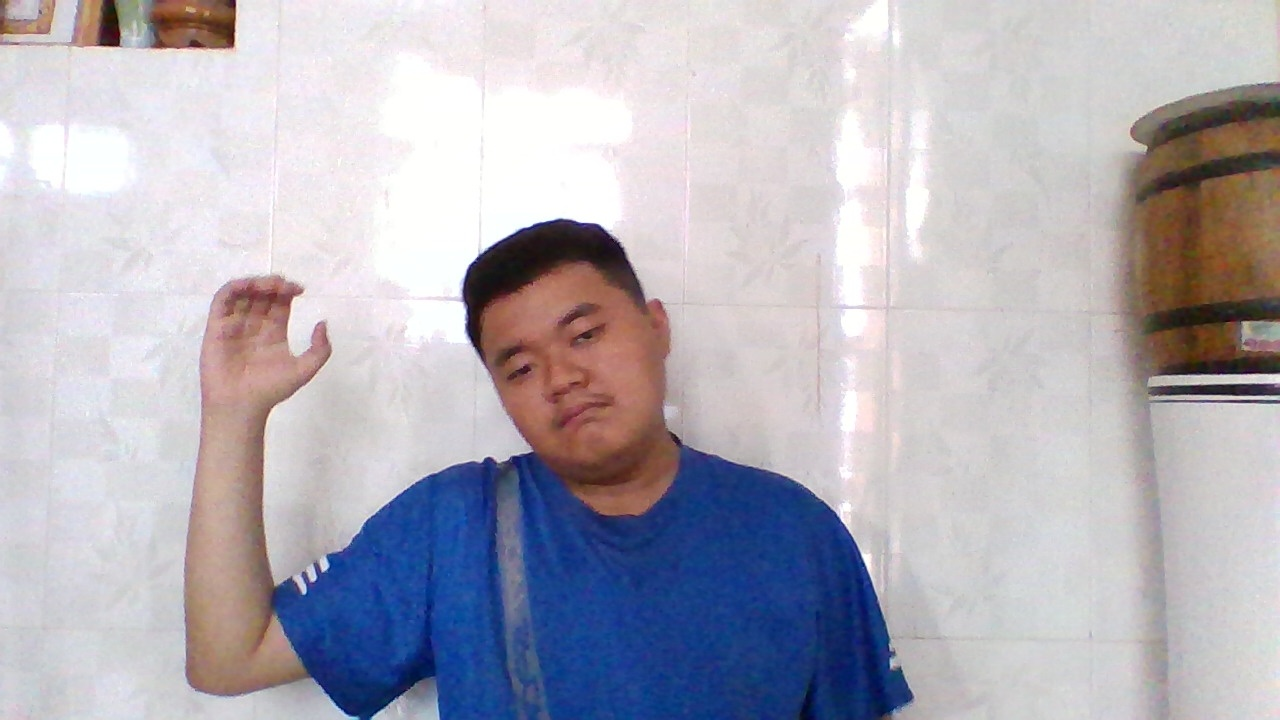C: (203, 265, 339, 424)
